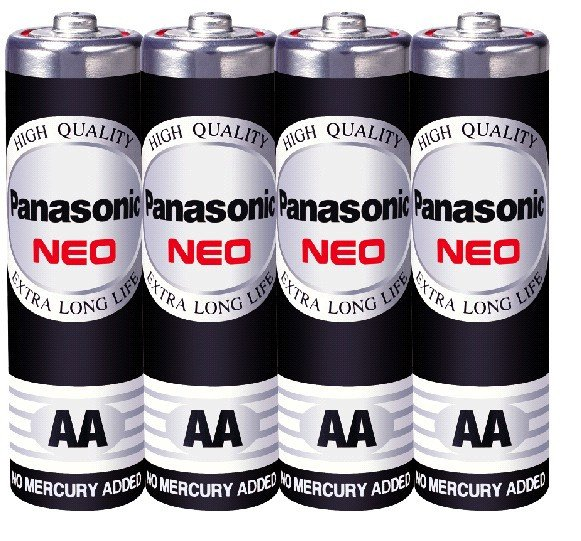Battery: (411, 10, 550, 513), (142, 10, 280, 514), (275, 10, 413, 513), (7, 10, 142, 513)
